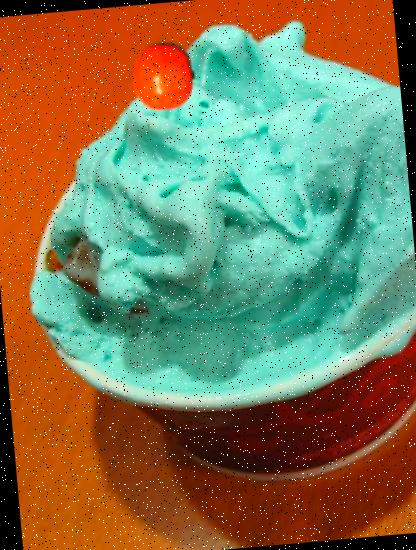Clementine: (126, 38, 202, 114)
